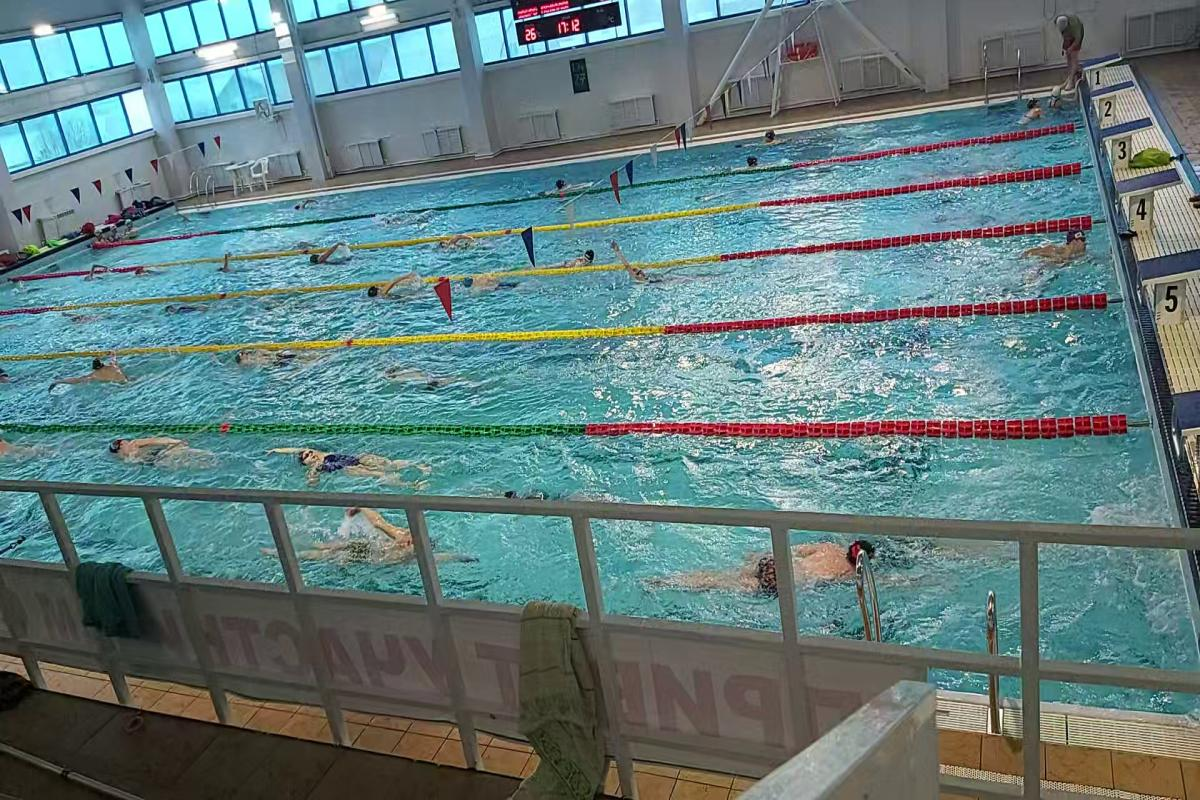swimmer: (674, 534, 903, 605), (295, 519, 481, 573), (266, 440, 432, 487), (611, 241, 712, 306), (53, 347, 155, 400), (1019, 226, 1103, 284), (109, 432, 225, 471), (230, 344, 322, 381), (356, 272, 433, 311), (384, 356, 452, 397), (454, 263, 522, 298), (430, 231, 496, 256), (164, 299, 217, 324), (307, 240, 354, 268), (557, 248, 597, 265)
